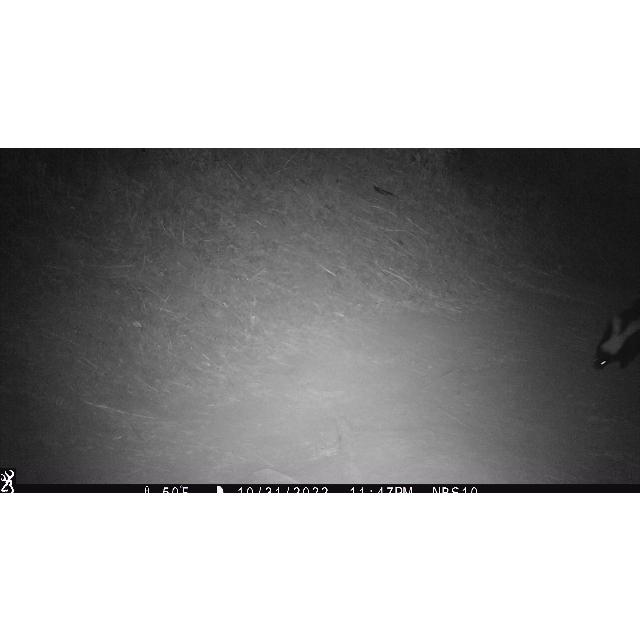animals: (594, 299, 640, 373)
